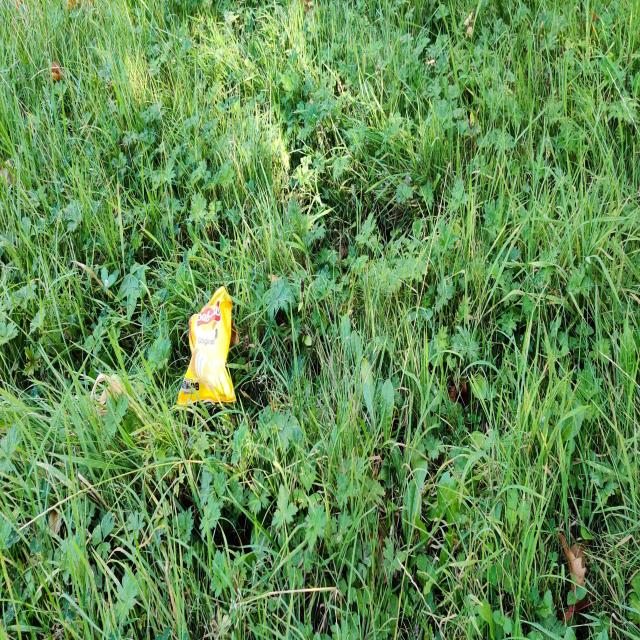litter: (172, 283, 237, 414)
